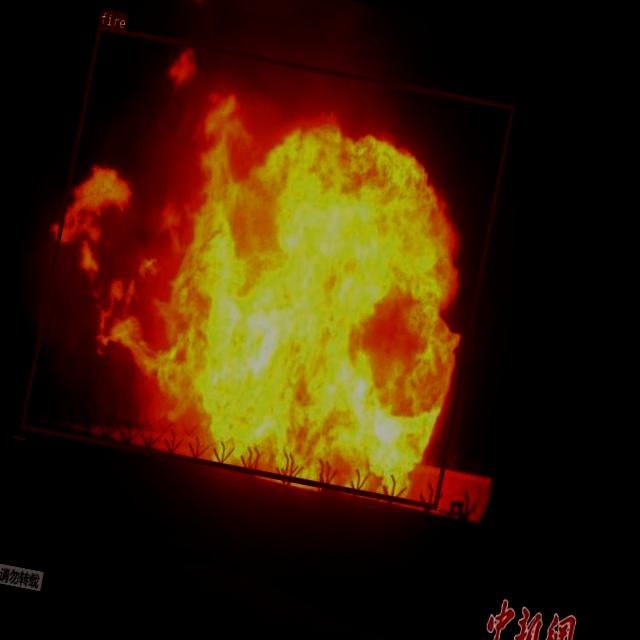fire: (19, 24, 514, 508)
